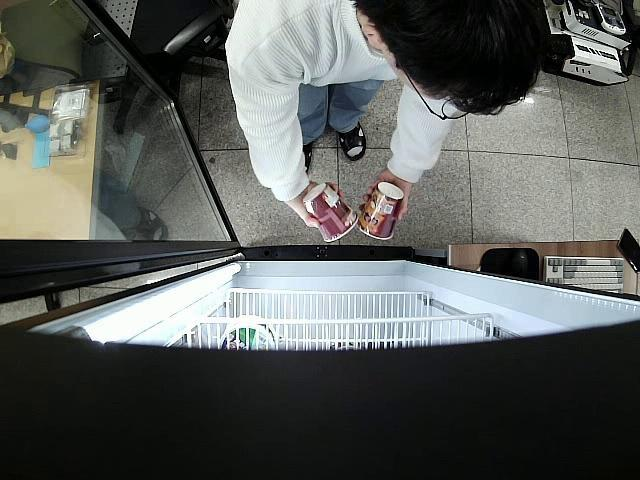06_nuguri_S: (304, 184, 358, 241), (356, 182, 405, 238)
